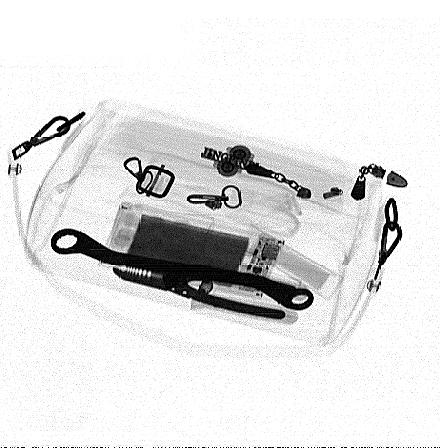Pliers: (113, 255, 298, 320)
Powerbank: (99, 201, 286, 301)
Wrench: (51, 228, 316, 311)
